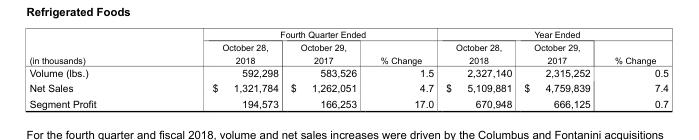table: (28, 29, 667, 108)
table column: (153, 29, 283, 108), (28, 29, 153, 108), (283, 29, 367, 108), (517, 29, 601, 108), (439, 29, 517, 108), (367, 29, 439, 108), (601, 29, 667, 108)
table column header: (28, 29, 667, 65)
table row: (28, 40, 667, 65), (28, 65, 667, 80), (28, 80, 667, 95), (28, 95, 667, 108), (28, 29, 667, 40)
table spanning cell: (28, 29, 153, 65), (153, 29, 439, 40), (439, 29, 667, 40)
